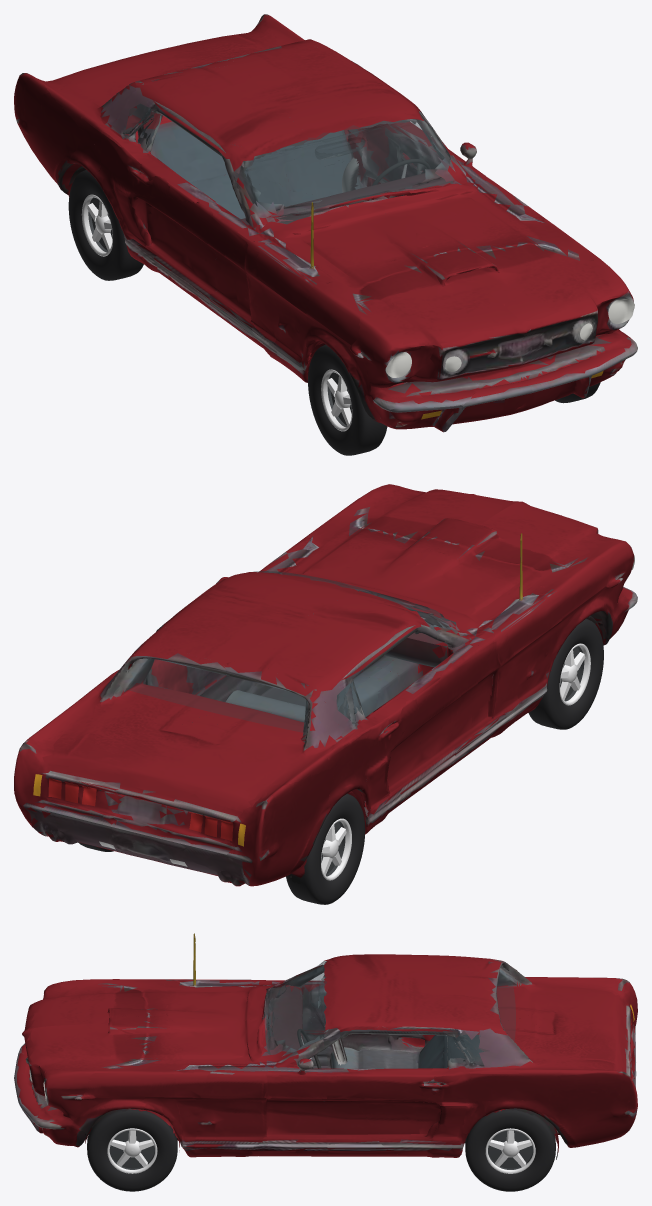
The model's file is mustang.glb.
The picture shows the model from 3 angles, top to bottom: view 1: azimuth 30°, elevation 25°; view 2: azimuth 150°, elevation 25°; view 3: azimuth 270°, elevation 25°; orthographic projection. The views are drawn at different scales.
Visible parts, largest first — view 1: Capo, Carroceria, Cabine, Paralama_Direito, Vidros, Interior, Porta_Direita, Tampa_Porta_Malas, Roda_Dianteira_Direita, Roda_Traseira_Direita, Paralama_Esquerdo, Porta_Esquerda (+1 smaller); view 2: Carroceria, Cabine, Capo, Tampa_Porta_Malas, Paralama_Direito, Porta_Direita, Vidro_Traseiro, Roda_Traseira_Direita, Roda_Dianteira_Direita, Interior, Paralama_Esquerdo, Porta_Esquerda (+2 smaller); view 3: Carroceria, Cabine, Capo, Paralama_Esquerdo, Porta_Esquerda, Tampa_Porta_Malas, Roda_Dianteira_Esquerda, Roda_Traseira_Esquerda, Interior, Vidros, Porta_Direita, Paralama_Direito (+1 smaller).
Part boxes in pixels (x1,y1,x2,y2): Capo: (273,182,619,347); Carroceria: (14,14,637,432); Cabine: (77,39,475,236); Paralama_Direito: (244,202,439,427); Vidros: (122,103,453,223); Interior: (147,108,461,224); Porta_Direita: (134,154,260,330); Tampa_Porta_Malas: (52,31,280,106); Roda_Dianteira_Direita: (308,344,387,455); Roda_Traseira_Direita: (68,169,143,280); Paralama_Esquerdo: (460,180,637,380); Porta_Esquerda: (354,121,492,187); Carroceria: (14,493,635,886); Cabine: (87,572,477,762); Capo: (279,488,615,628); Tampa_Porta_Malas: (42,674,314,812); Paralama_Direito: (445,533,637,724); Porta_Direita: (368,633,500,805); Vidro_Traseiro: (127,659,305,732); Roda_Traseira_Direita: (286,793,365,904); Roda_Dianteira_Direita: (528,618,603,729); Interior: (150,588,456,722); Paralama_Esquerdo: (259,484,411,573); Porta_Esquerda: (158,577,260,701); Carroceria: (14,969,637,1159); Cabine: (257,954,524,1073); Capo: (30,985,266,1074); Paralama_Esquerdo: (35,1053,276,1144); Porta_Esquerda: (259,1054,446,1144); Tampa_Porta_Malas: (509,970,626,1071); Roda_Dianteira_Esquerda: (87,1109,177,1191); Roda_Traseira_Esquerda: (465,1110,555,1191); Interior: (262,968,481,1142); Vidros: (263,961,488,1067); Porta_Direita: (260,976,434,1058); Paralama_Direito: (43,933,270,1018).
Bounding box in the file's own units: 1.8 × 1.41 × 4.61.
11 materials, 2 textured.
